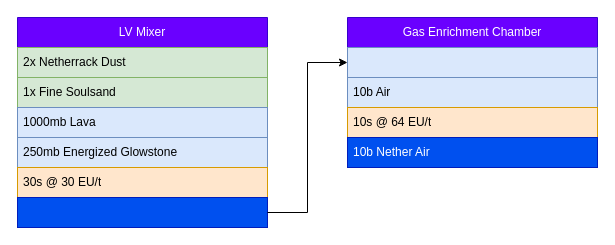
The diagram is 615 pixels wide and 245 high, and some of its shapes have lost their labels. Each missing label, with the centre of its shape:
"1000mb Nether Sludge" goes at point (472, 62).
"1500mb Nether Sludge" goes at point (142, 212).
